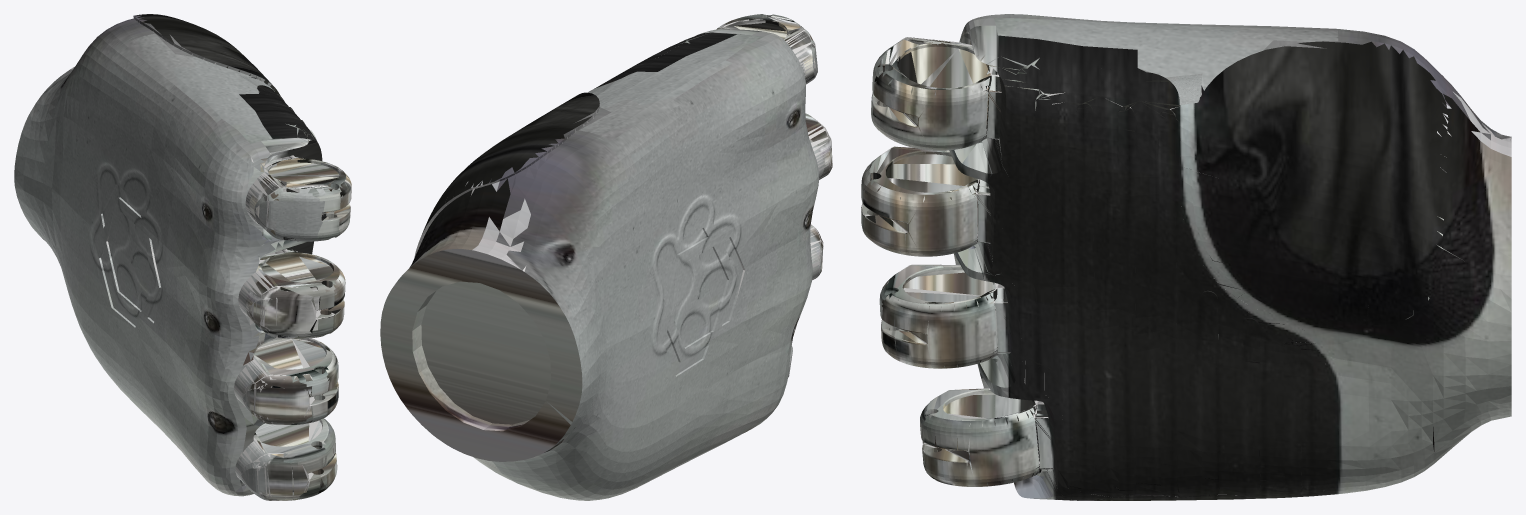
The model's file is palm.obj.
3 views of the same model, side by side, from view 1: azimuth 30°, elevation 25°; view 2: azimuth 150°, elevation 25°; view 3: azimuth 270°, elevation 25° (orthographic). The views are drawn at different scales.
Parts seen in each view (by area): view 1: Palm.001; view 2: Palm.001; view 3: Palm.001.
Boxes of the visible parts, x1,y1,x2,y2 form: Palm.001: (14,14,351,500); Palm.001: (380,14,832,500); Palm.001: (861,14,1511,500).
Size of the model in its own units: 0.0559 by 0.0931 by 0.119.
Materials: 1 (1 with a texture image).
